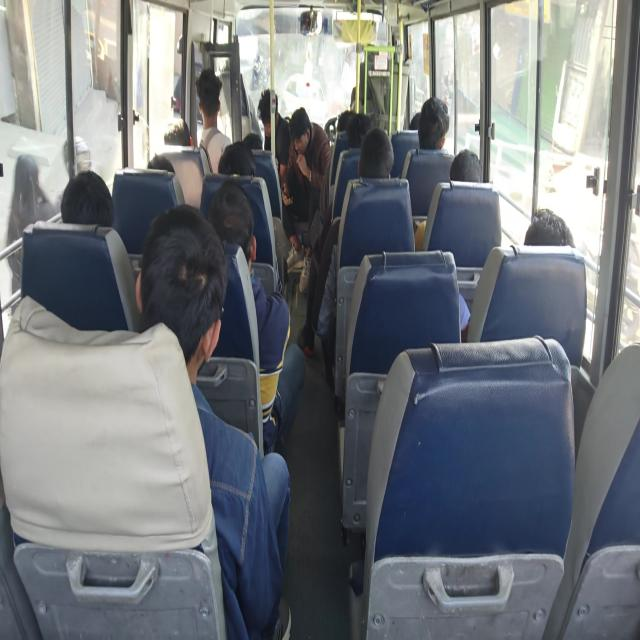person: (135, 203, 292, 638), (208, 179, 306, 455), (310, 127, 394, 388), (459, 207, 575, 341), (5, 152, 58, 314), (281, 107, 331, 271), (195, 68, 232, 174), (256, 88, 290, 186), (60, 169, 115, 227), (524, 208, 574, 247), (358, 127, 394, 179), (417, 96, 449, 150), (217, 140, 256, 176), (449, 148, 483, 182), (163, 118, 191, 146)
